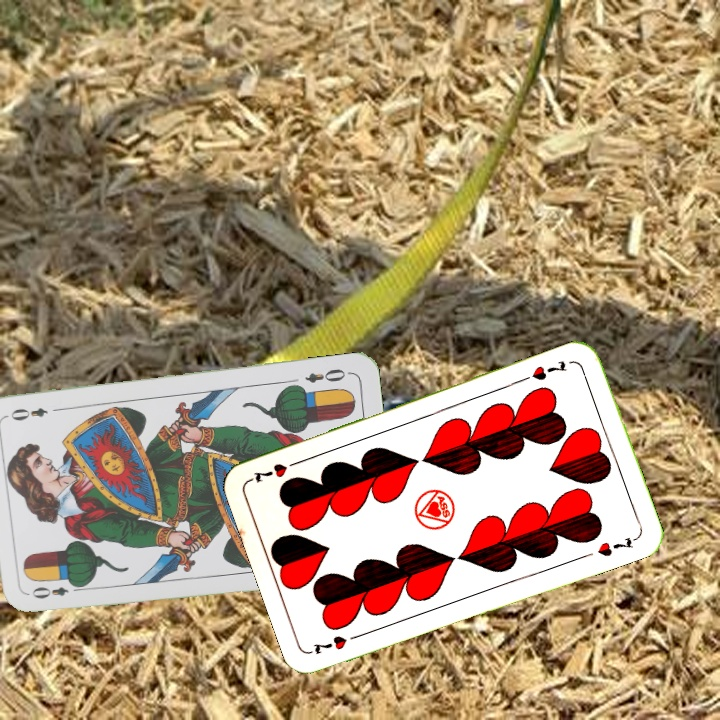EO: (28, 579, 86, 601), (301, 364, 353, 385)
H7: (307, 629, 365, 657), (527, 356, 569, 383)
